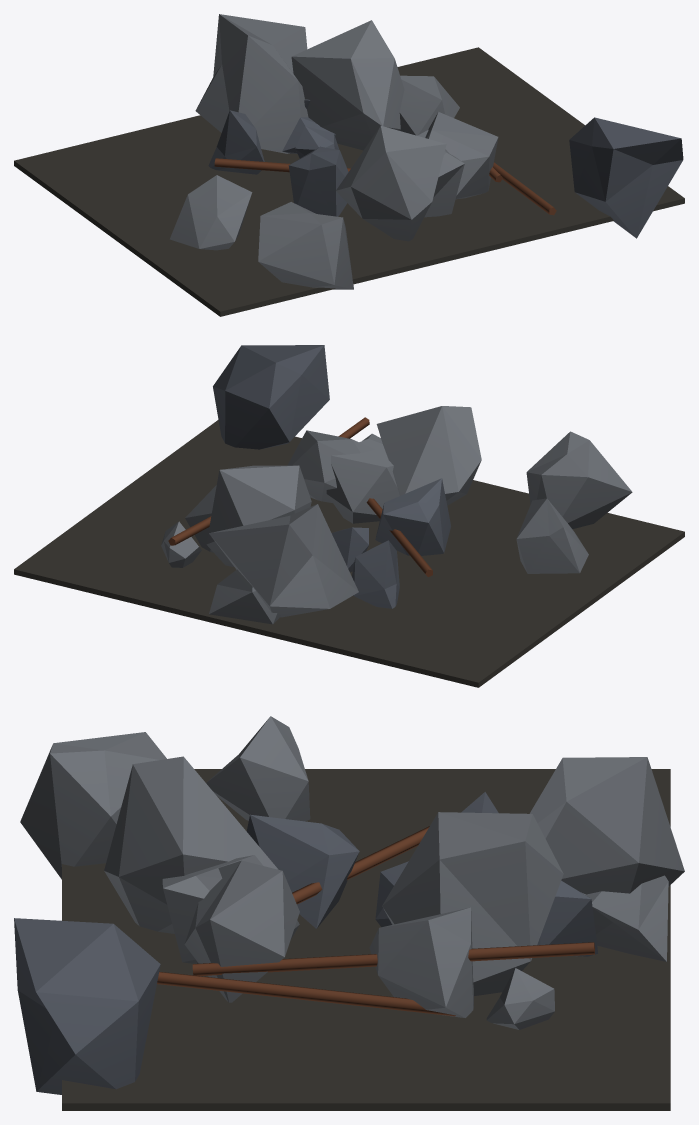
The model's file is debris-pile.glb.
3 renders of one model, top to bottom at view 1: azimuth 30°, elevation 25°; view 2: azimuth 150°, elevation 25°; view 3: azimuth 270°, elevation 25°, orthographic. The views are drawn at different scales.
Visible parts, largest first — view 1: debris_pile; view 2: debris_pile; view 3: debris_pile.
Part boxes in pixels (x1,y1,x2,y2): debris_pile: (14,14,684,316); debris_pile: (14,345,684,687); debris_pile: (14,716,684,1110).
Bounding box in the file's own units: 1.31 × 0.3391 × 1.1.
